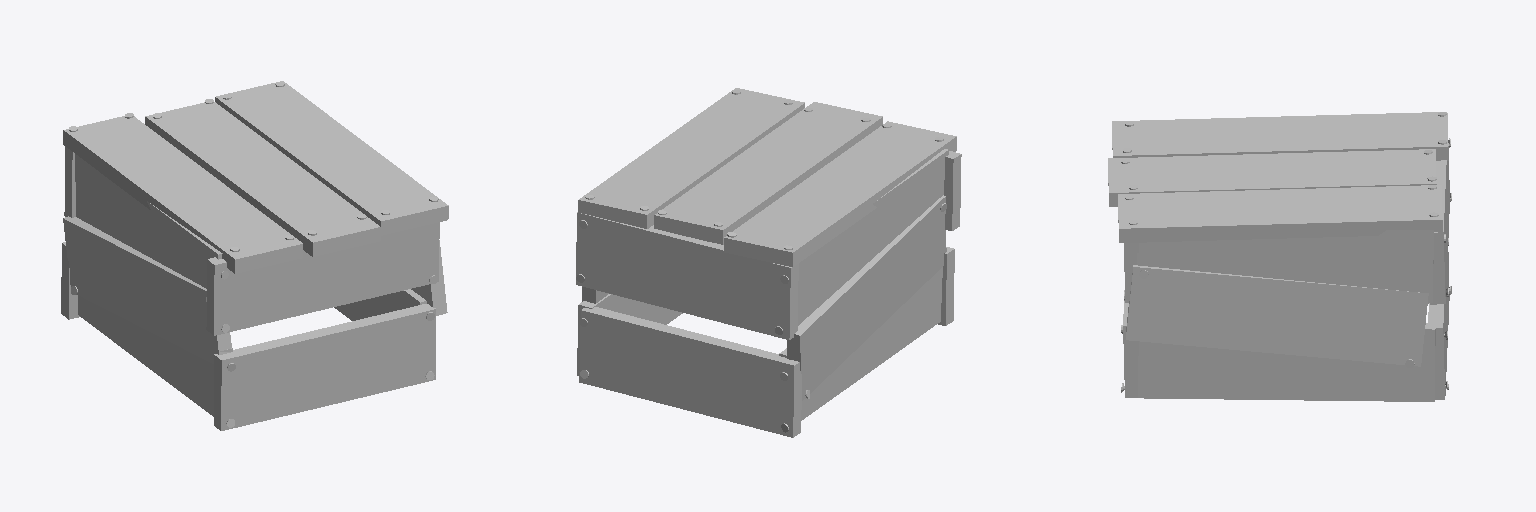
3 views of the same model, side by side, from view 1: azimuth 30°, elevation 25°; view 2: azimuth 150°, elevation 25°; view 3: azimuth 270°, elevation 25° (orthographic).
Parts seen in each view (by area): view 1: group[number redacted], group[number redacted], group[number redacted], group[number redacted], group[number redacted], group[number redacted], group[number redacted], group[number redacted], group[number redacted], group[number redacted], group[number redacted], group[number redacted]; view 2: group[number redacted], group[number redacted], group[number redacted], group[number redacted], group[number redacted], group[number redacted], group[number redacted], group[number redacted], group[number redacted], group[number redacted], group[number redacted]; view 3: group[number redacted], group[number redacted], group[number redacted], group[number redacted], group[number redacted], group[number redacted], group[number redacted], group[number redacted], group[number redacted], group[number redacted].
Boxes of the visible parts, <box> form: group[number redacted]: <box>214,304,435,430</box>; group[number redacted]: <box>63,116,302,273</box>; group[number redacted]: <box>206,222,439,335</box>; group[number redacted]: <box>145,102,380,256</box>; group[number redacted]: <box>215,81,448,235</box>; group[number redacted]: <box>63,216,231,363</box>; group[number redacted]: <box>75,154,222,288</box>; group[number redacted]: <box>78,295,232,416</box>; group[number redacted]: <box>334,289,426,320</box>; group[number redacted]: <box>411,240,447,315</box>; group[number redacted]: <box>61,242,79,319</box>; group[number redacted]: <box>64,146,75,217</box>; group[number redacted]: <box>579,307,801,437</box>; group[number redacted]: <box>576,212,798,339</box>; group[number redacted]: <box>724,121,956,266</box>; group[number redacted]: <box>654,102,882,244</box>; group[number redacted]: <box>578,88,804,228</box>; group[number redacted]: <box>787,195,946,400</box>; group[number redacted]: <box>798,149,948,325</box>; group[number redacted]: <box>779,267,942,420</box>; group[number redacted]: <box>577,294,682,375</box>; group[number redacted]: <box>944,151,961,230</box>; group[number redacted]: <box>938,247,954,325</box>; group[number redacted]: <box>1126,265,1428,366</box>; group[number redacted]: <box>1118,185,1442,242</box>; group[number redacted]: <box>1138,323,1435,401</box>; group[number redacted]: <box>1137,230,1433,302</box>; group[number redacted]: <box>1112,112,1448,160</box>; group[number redacted]: <box>1108,149,1436,206</box>; group[number redacted]: <box>1430,160,1449,304</box>; group[number redacted]: <box>1428,252,1449,399</box>; group[number redacted]: <box>1123,290,1138,397</box>; group[number redacted]: <box>1124,243,1138,302</box>.
Bounding box in the file's own units: 0.6853 × 0.5208 × 0.8705.